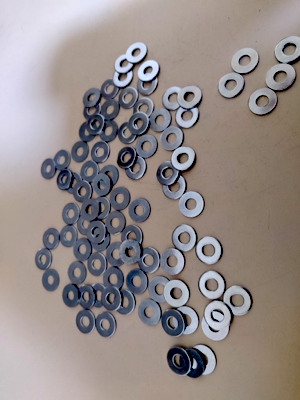circle: (223, 285, 253, 317), (201, 310, 231, 341), (204, 300, 233, 331), (198, 270, 227, 300), (230, 47, 260, 76), (266, 63, 296, 92), (190, 344, 217, 376), (248, 88, 278, 116), (196, 236, 224, 265), (172, 306, 200, 335), (177, 190, 205, 219), (179, 347, 205, 378), (274, 35, 300, 65), (172, 224, 199, 252), (217, 73, 246, 99), (167, 346, 192, 376), (164, 280, 191, 307), (162, 173, 188, 201), (161, 309, 186, 338), (160, 248, 186, 275), (137, 246, 162, 274), (148, 276, 173, 304), (171, 146, 197, 172), (137, 299, 162, 326), (156, 160, 181, 186), (125, 269, 150, 295), (148, 107, 172, 134), (160, 126, 185, 151), (176, 105, 202, 129), (108, 185, 132, 211), (162, 85, 186, 110), (178, 85, 204, 108), (117, 119, 140, 145), (114, 290, 137, 316), (87, 283, 110, 309), (137, 59, 161, 83), (124, 156, 147, 181), (136, 134, 159, 159), (128, 198, 151, 223), (121, 225, 144, 250), (105, 242, 128, 267), (104, 211, 127, 236), (95, 312, 117, 338), (136, 73, 159, 97), (102, 267, 125, 291), (99, 98, 122, 122), (120, 240, 142, 265), (102, 287, 124, 312), (118, 86, 140, 110), (128, 112, 150, 136), (87, 252, 108, 277), (73, 237, 94, 262), (79, 160, 100, 185), (76, 309, 96, 335), (100, 77, 121, 101), (116, 146, 137, 170), (91, 196, 112, 220), (80, 198, 101, 222), (79, 119, 100, 143), (98, 119, 119, 143), (126, 42, 148, 64), (113, 65, 135, 87), (114, 52, 135, 75), (86, 221, 107, 244), (70, 141, 91, 164), (90, 141, 111, 164), (99, 164, 120, 187), (67, 261, 87, 285), (61, 202, 81, 226), (73, 179, 93, 203), (41, 268, 60, 293), (77, 284, 95, 310), (34, 247, 54, 270), (59, 225, 79, 248), (83, 99, 103, 122), (62, 284, 81, 308), (93, 173, 113, 195), (86, 114, 106, 136), (53, 149, 72, 172), (83, 86, 102, 109), (40, 157, 58, 181), (55, 168, 73, 192), (42, 228, 61, 249), (134, 99, 155, 116)
